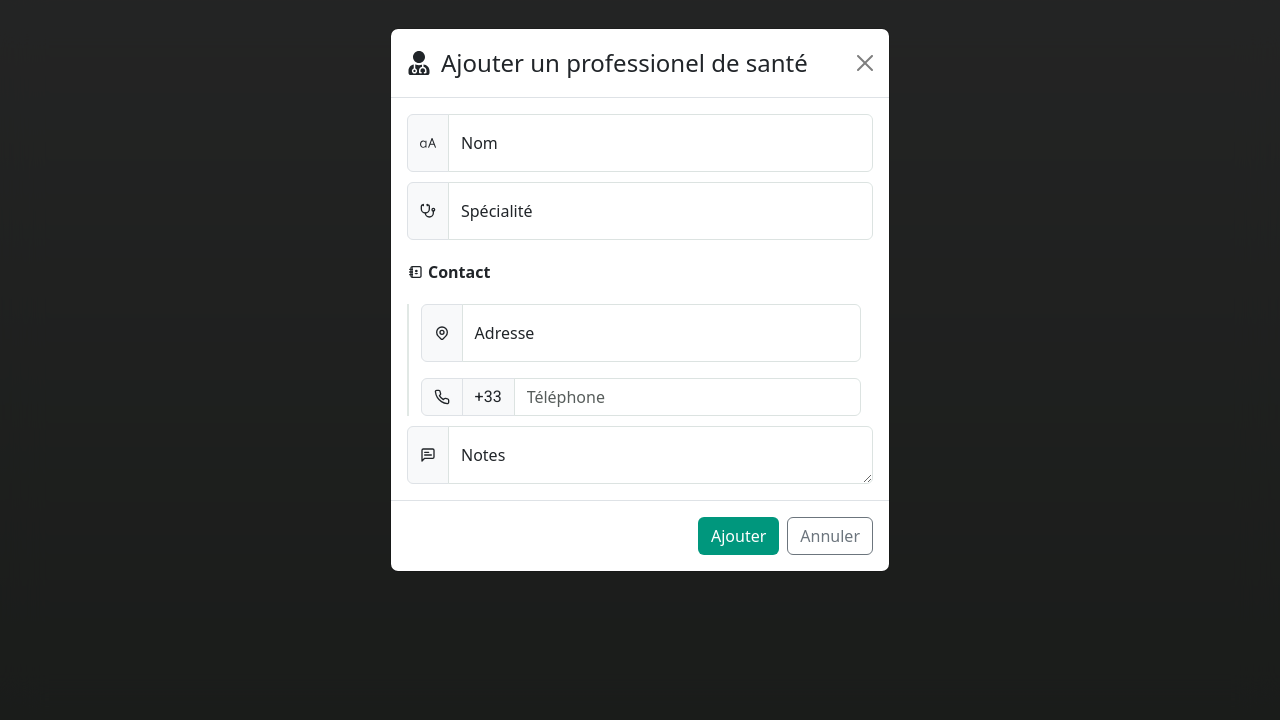
CreateSpecialist › Should ignore 0 as first char for phone number input
This screenshot has width=1280, height=720.
Type "01" into the field with placeholder "Téléphone". click: (688, 397)
box: [514,378,861,416]
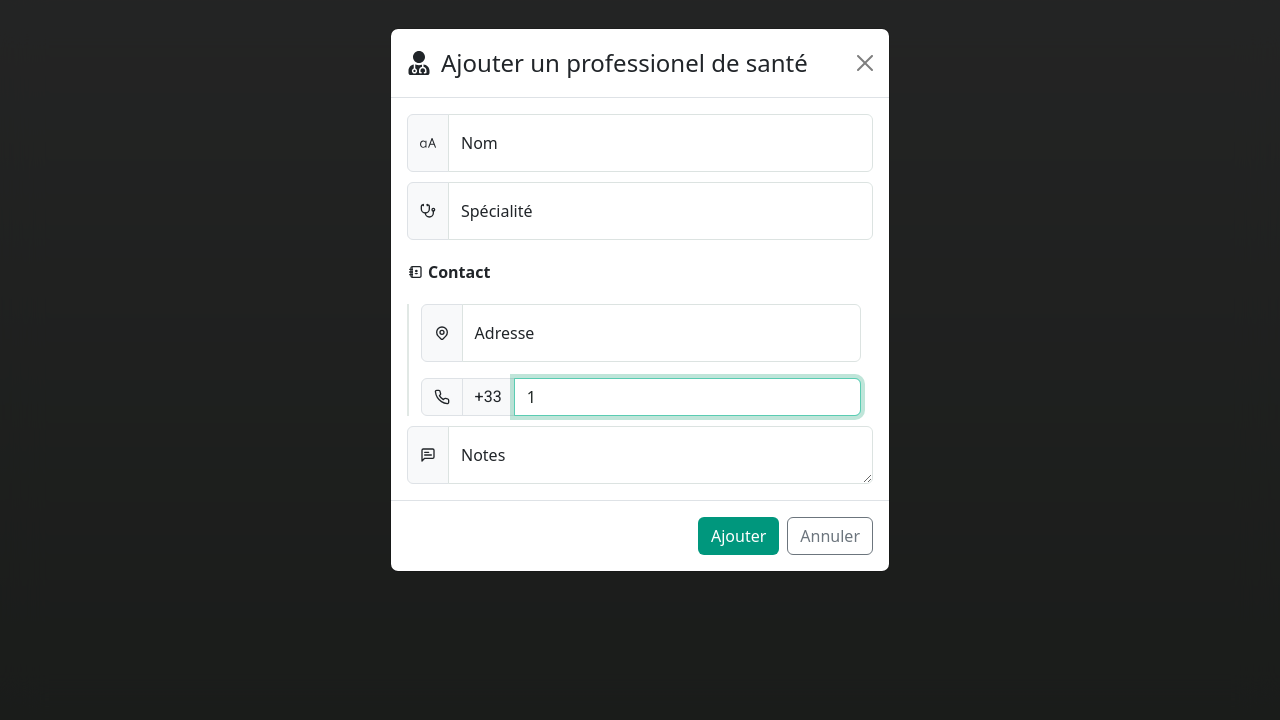
Expected: the field with placeholder "Téléphone" holds "1", [514,378,861,416]
